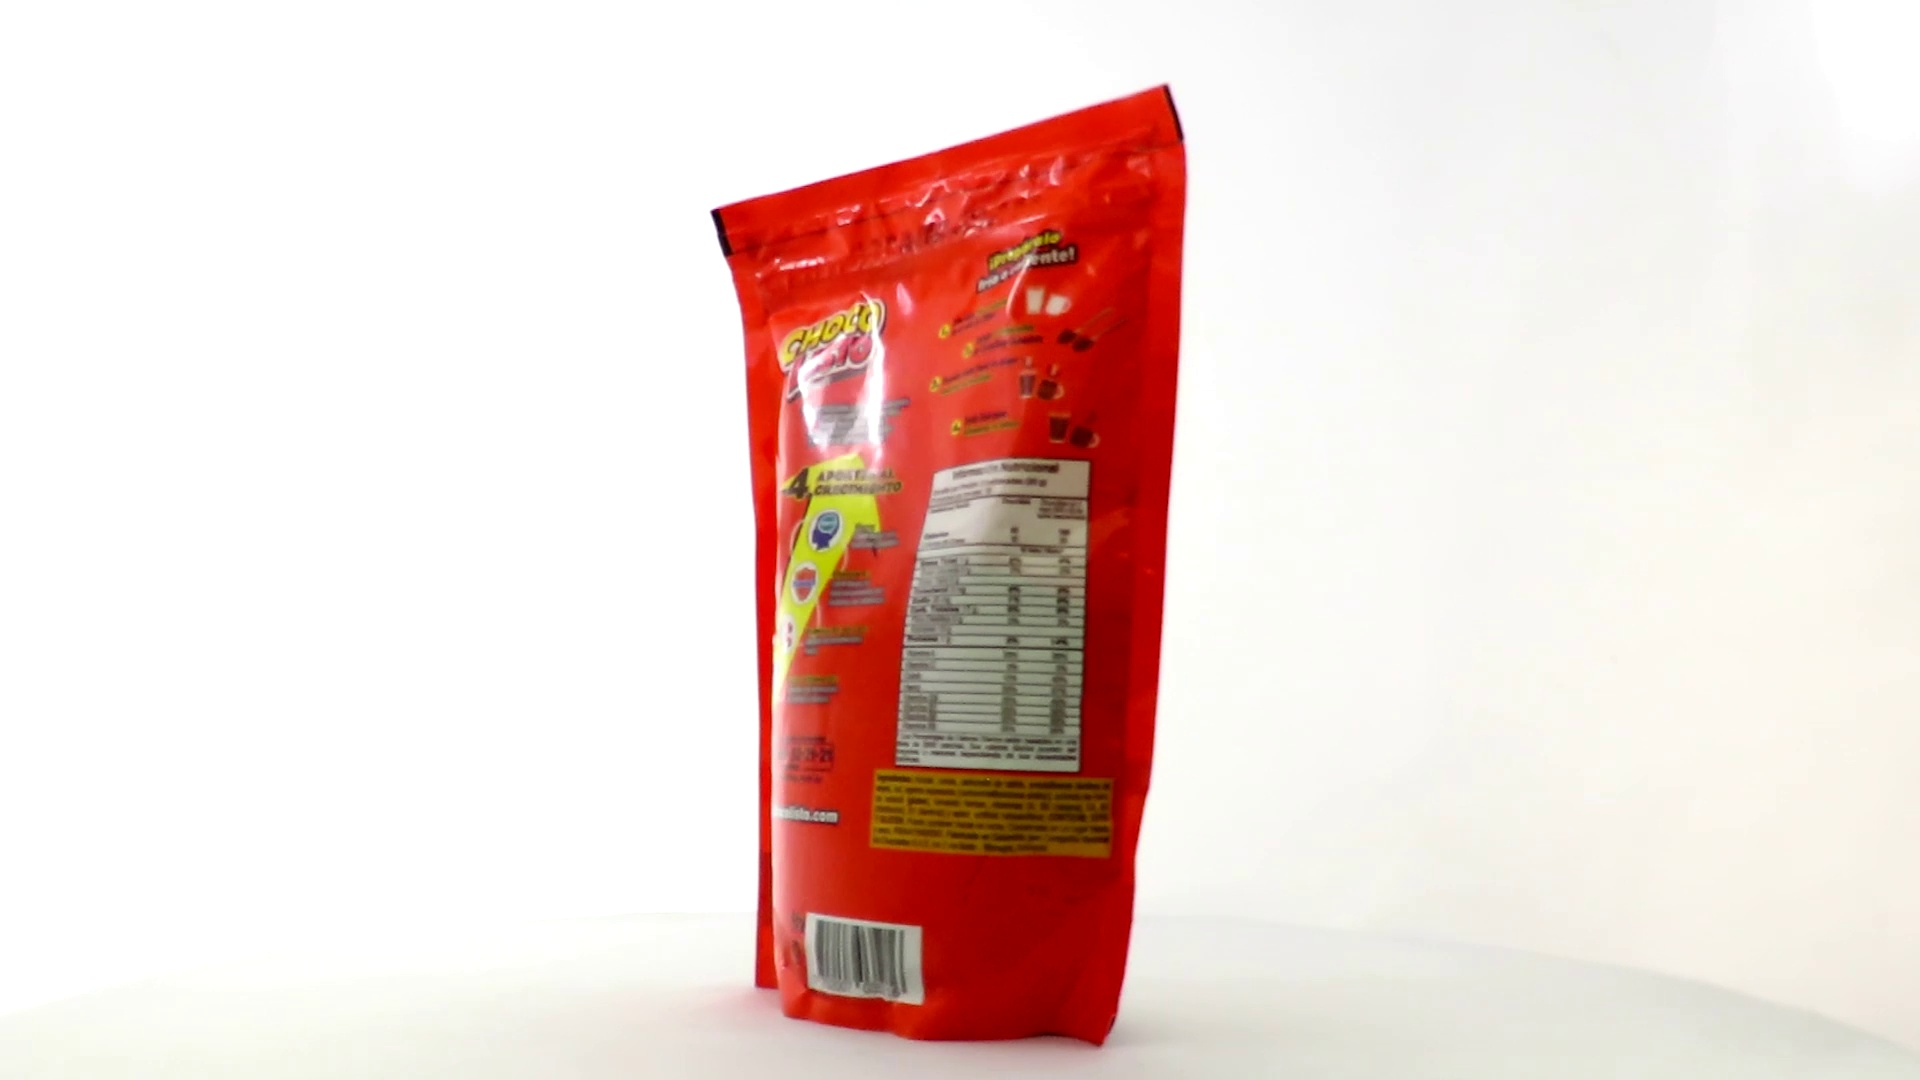COL0170103DYP36000: (705, 79, 1193, 1054)
